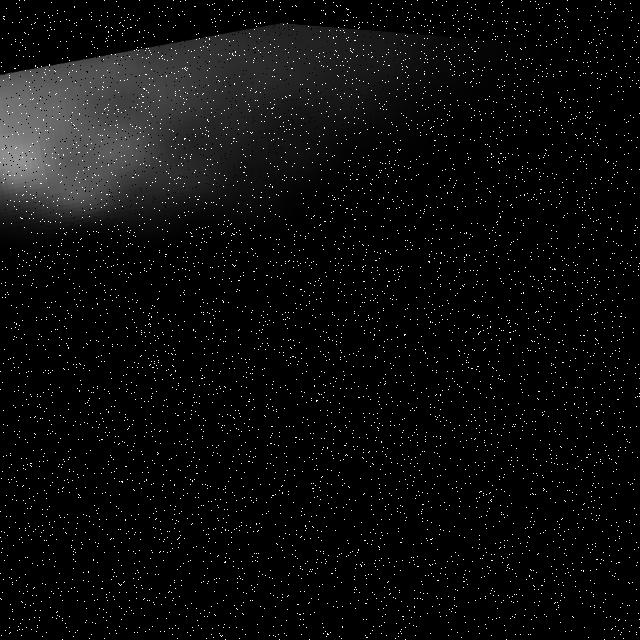person: (1, 1, 596, 315)
